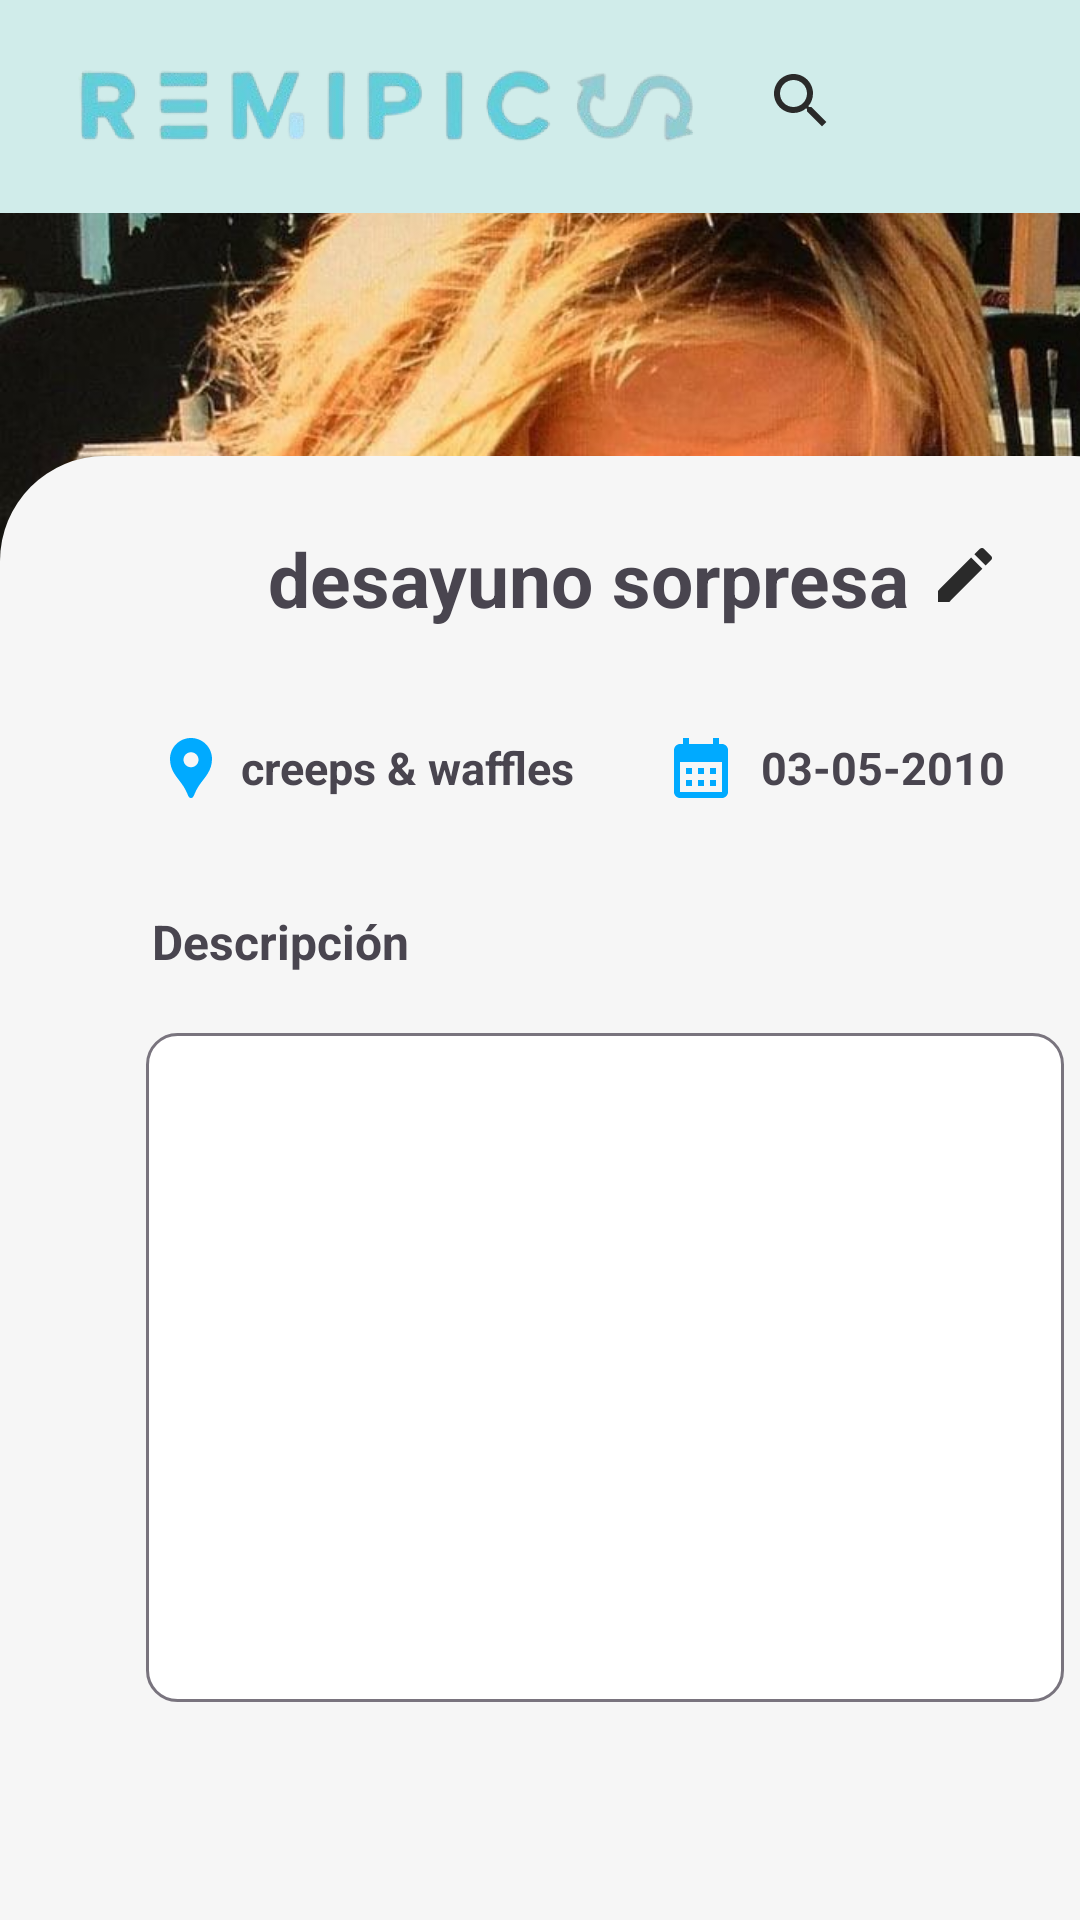

Screen size 1080x1920. Icon name, then its center in pixels as [x,y]:
edit: [965,575]
fecha: [701,768]
lupa: [800,100]
ubi: [191,768]
